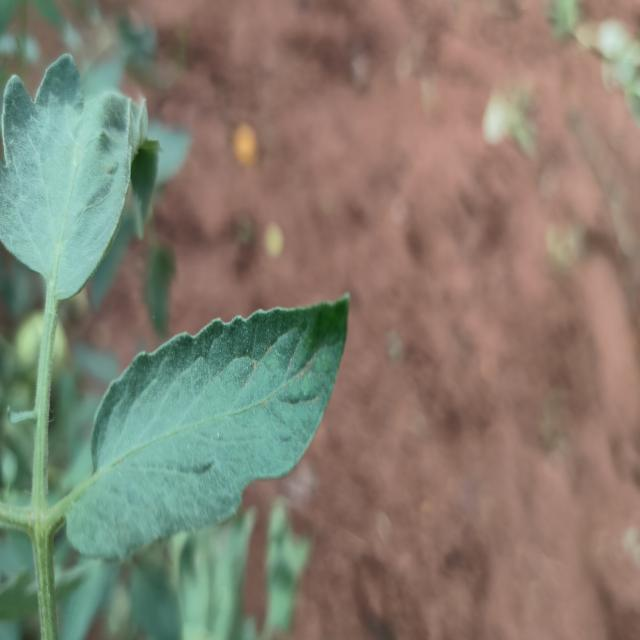tomato_healthy: (66, 294, 350, 559), (0, 53, 143, 300)
